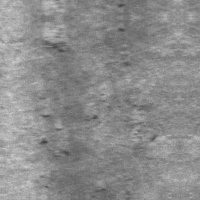rolled-in_scale: (78, 86, 152, 156), (25, 88, 74, 163), (40, 30, 76, 51)
